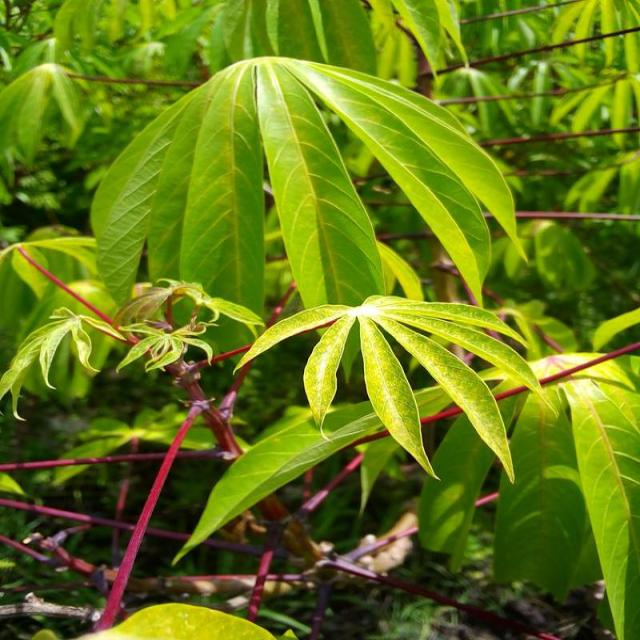cassava leaf: (90, 52, 529, 342), (233, 292, 544, 486)
